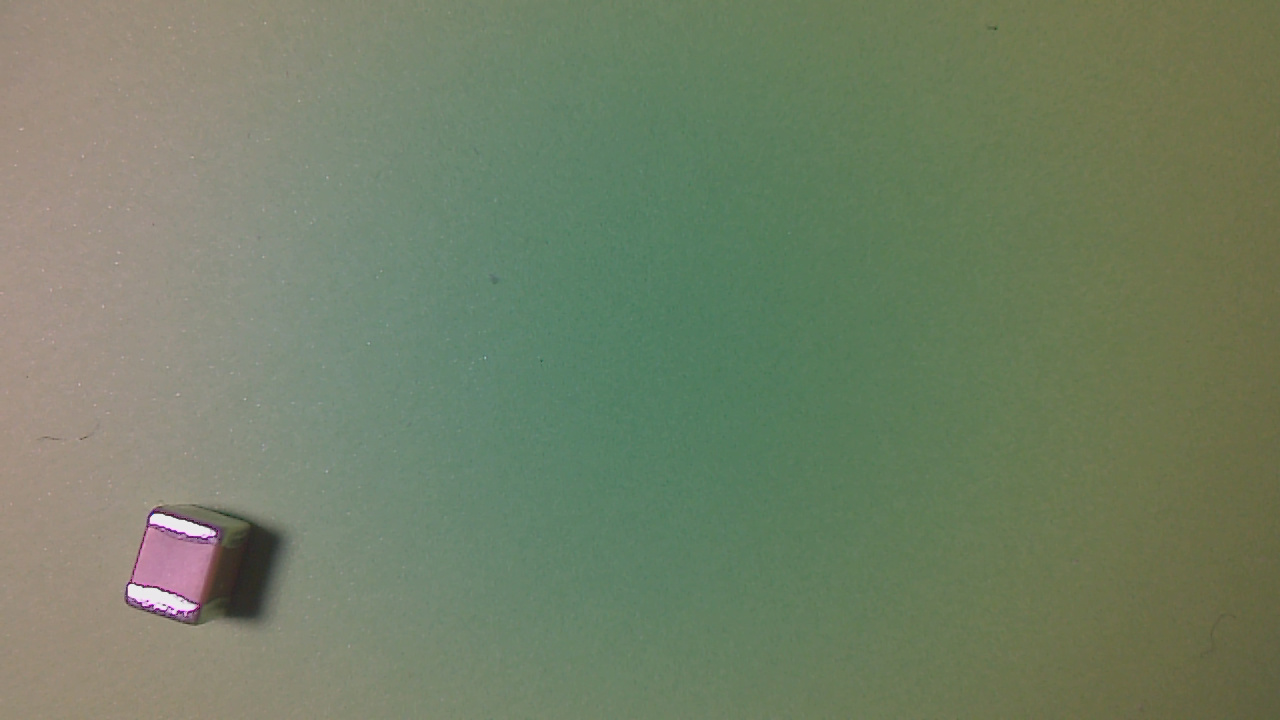Condensator: (122, 507, 241, 630)
